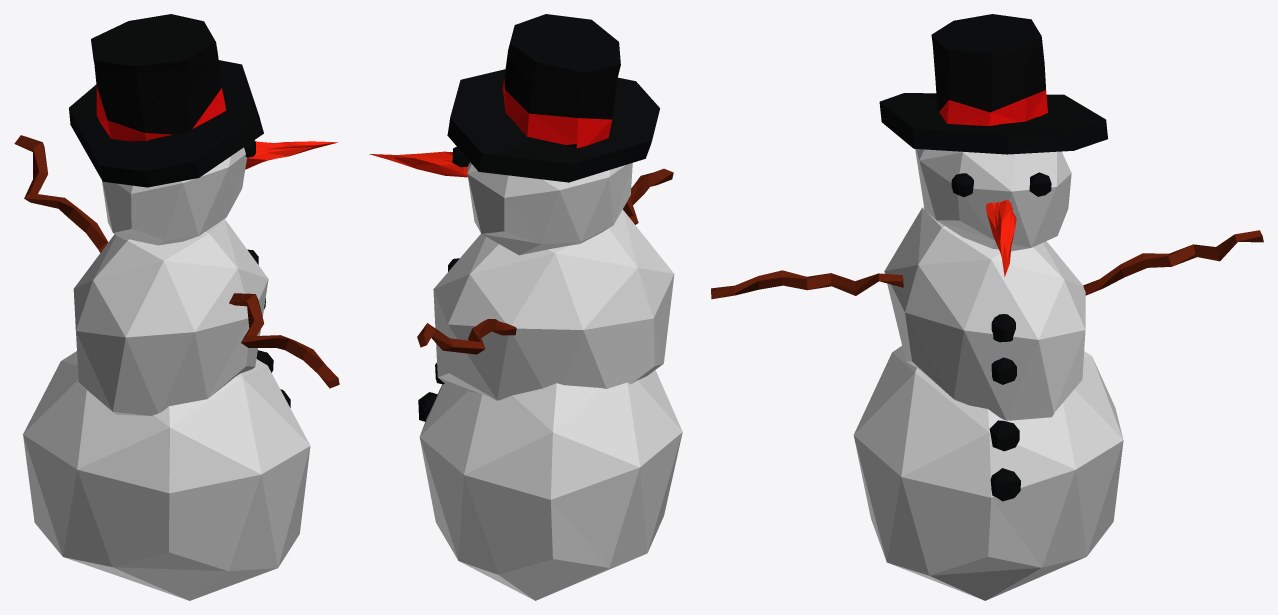
File: schneemann.FBX
3 renders of one model, left to right at view 1: azimuth 30°, elevation 25°; view 2: azimuth 150°, elevation 25°; view 3: azimuth 270°, elevation 25°, orthographic. The views are drawn at different scales.
Visible parts, largest first — view 1: GeoSphere003, GeoSphere004, Cylinder004, Cylinder003, GeoSphere005, Box003, Box002, Pyramid001; view 2: GeoSphere003, GeoSphere004, Cylinder004, Cylinder003, GeoSphere005, Box002, Pyramid001, Box003; view 3: GeoSphere003, GeoSphere004, Cylinder004, GeoSphere005, Cylinder003, Box003, Box002, Pyramid001, GeoSphere009, GeoSphere008.
Part boxes in pixels (left/top/right/bottom): GeoSphere003: left=23, top=351, right=310, bottom=600; GeoSphere004: left=73, top=219, right=268, bottom=415; Cylinder004: left=91, top=14, right=226, bottom=141; Cylinder003: left=69, top=60, right=263, bottom=187; GeoSphere005: left=102, top=147, right=246, bottom=245; Box003: left=229, top=293, right=339, bottom=388; Box002: left=14, top=135, right=108, bottom=252; Pyramid001: left=245, top=141, right=337, bottom=169; GeoSphere003: left=419, top=370, right=682, bottom=600; GeoSphere004: left=433, top=209, right=674, bottom=400; Cylinder004: left=502, top=14, right=620, bottom=148; Cylinder003: left=447, top=69, right=659, bottom=182; GeoSphere005: left=467, top=162, right=632, bottom=255; Box002: left=417, top=319, right=516, bottom=354; Pyramid001: left=369, top=151, right=467, bottom=177; Box003: left=623, top=168, right=673, bottom=224; GeoSphere003: left=853, top=346, right=1123, bottom=600; GeoSphere004: left=884, top=207, right=1085, bottom=420; Cylinder004: left=931, top=14, right=1047, bottom=126; GeoSphere005: left=915, top=149, right=1071, bottom=251; Cylinder003: left=879, top=93, right=1108, bottom=154; Box003: left=711, top=270, right=903, bottom=299; Box002: left=1083, top=230, right=1263, bottom=295; Pyramid001: left=986, top=200, right=1016, bottom=276; GeoSphere009: left=990, top=468, right=1020, bottom=501; GeoSphere008: left=989, top=420, right=1019, bottom=451.
Bounding box in the file's own units: 14.8 × 26.52 × 24.49.
